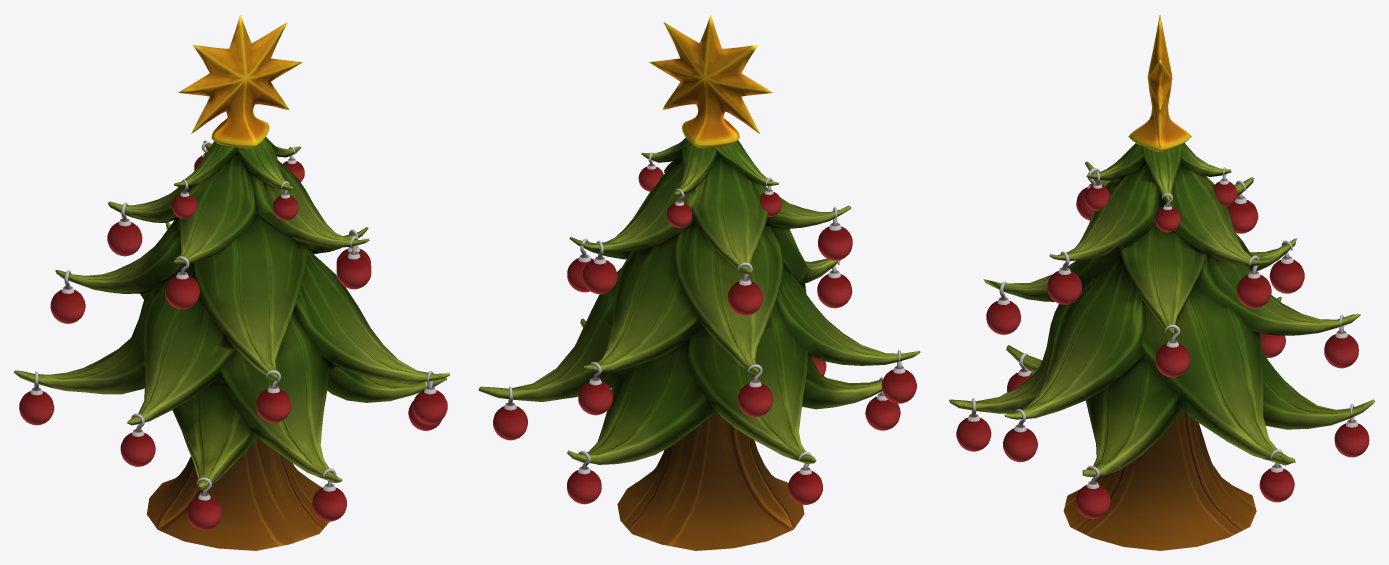
3 views of the same model, side by side, from view 1: azimuth 30°, elevation 25°; view 2: azimuth 150°, elevation 25°; view 3: azimuth 270°, elevation 25° (orthographic).
Visible parts, largest first — view 1: christmasTree; view 2: christmasTree; view 3: christmasTree.
Boxes of the visible parts, x1,y1,x2,y2 form: christmasTree: (14, 14, 449, 550); christmasTree: (478, 14, 920, 550); christmasTree: (949, 15, 1374, 550).
Size of the model in its own units: 0.6592 by 0.933 by 0.7302.
Materials: 1 (1 with a texture image).
